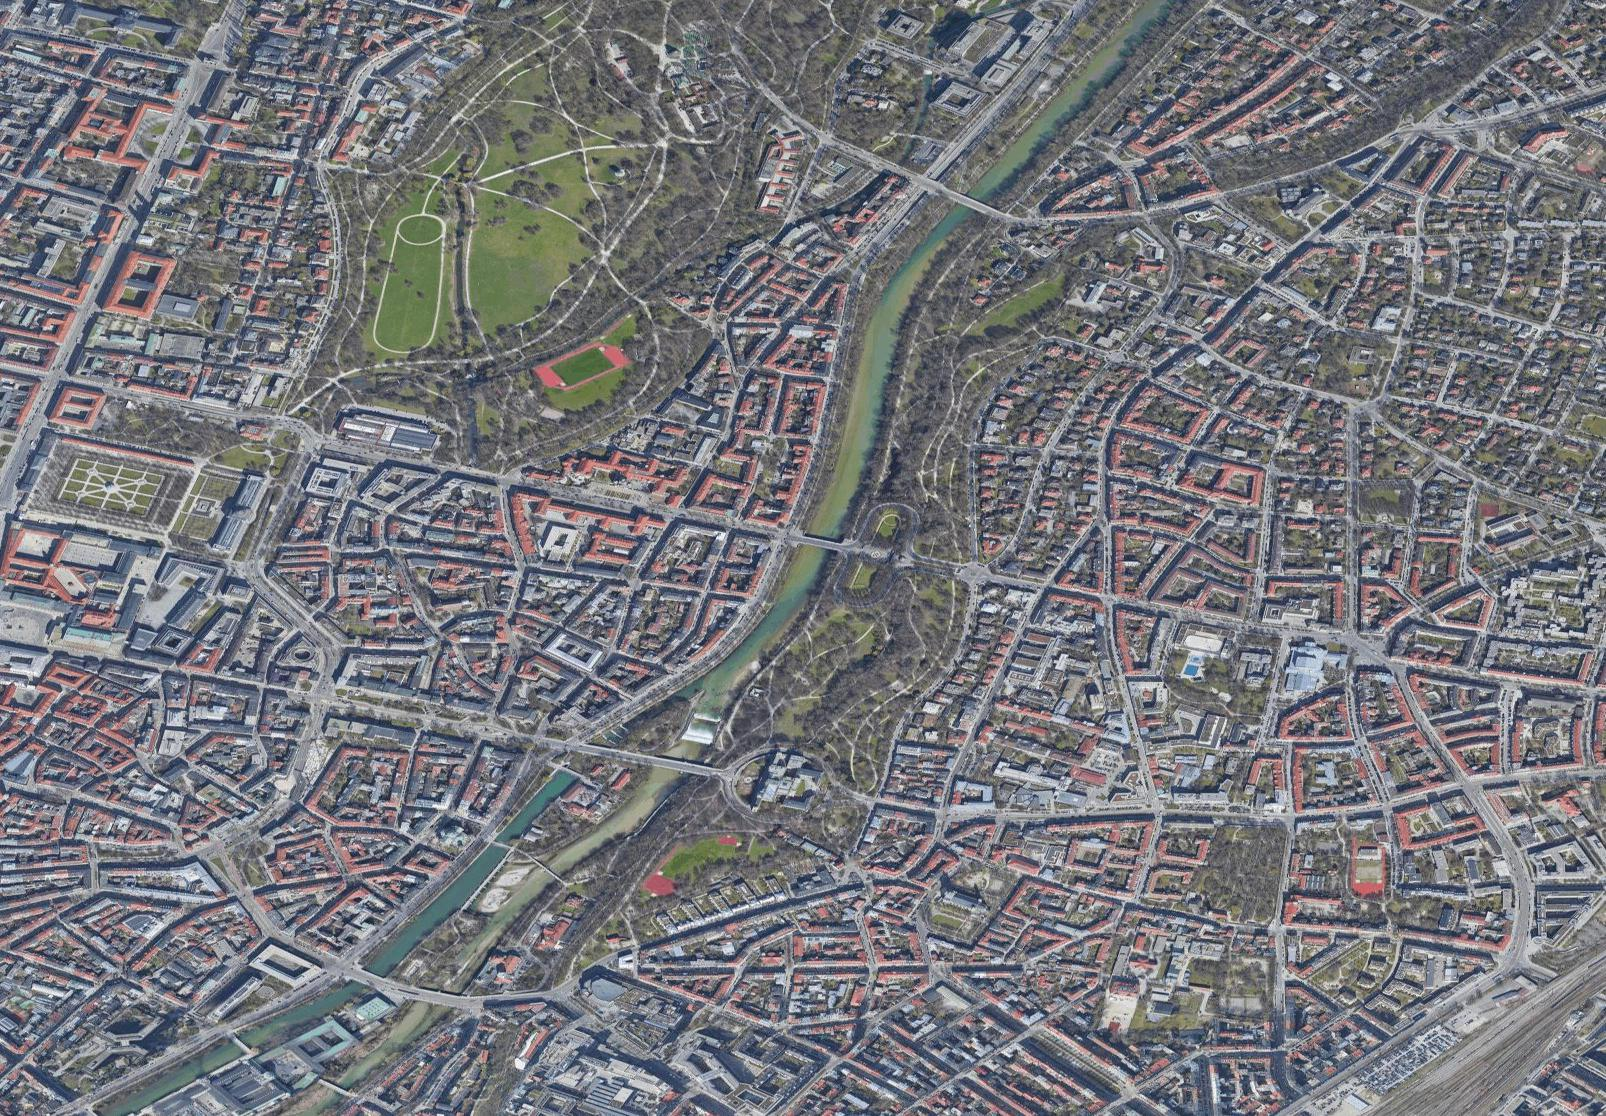bridge: (563, 733, 699, 779), (946, 187, 1004, 221), (336, 960, 393, 994), (788, 525, 846, 559), (484, 835, 520, 853)
